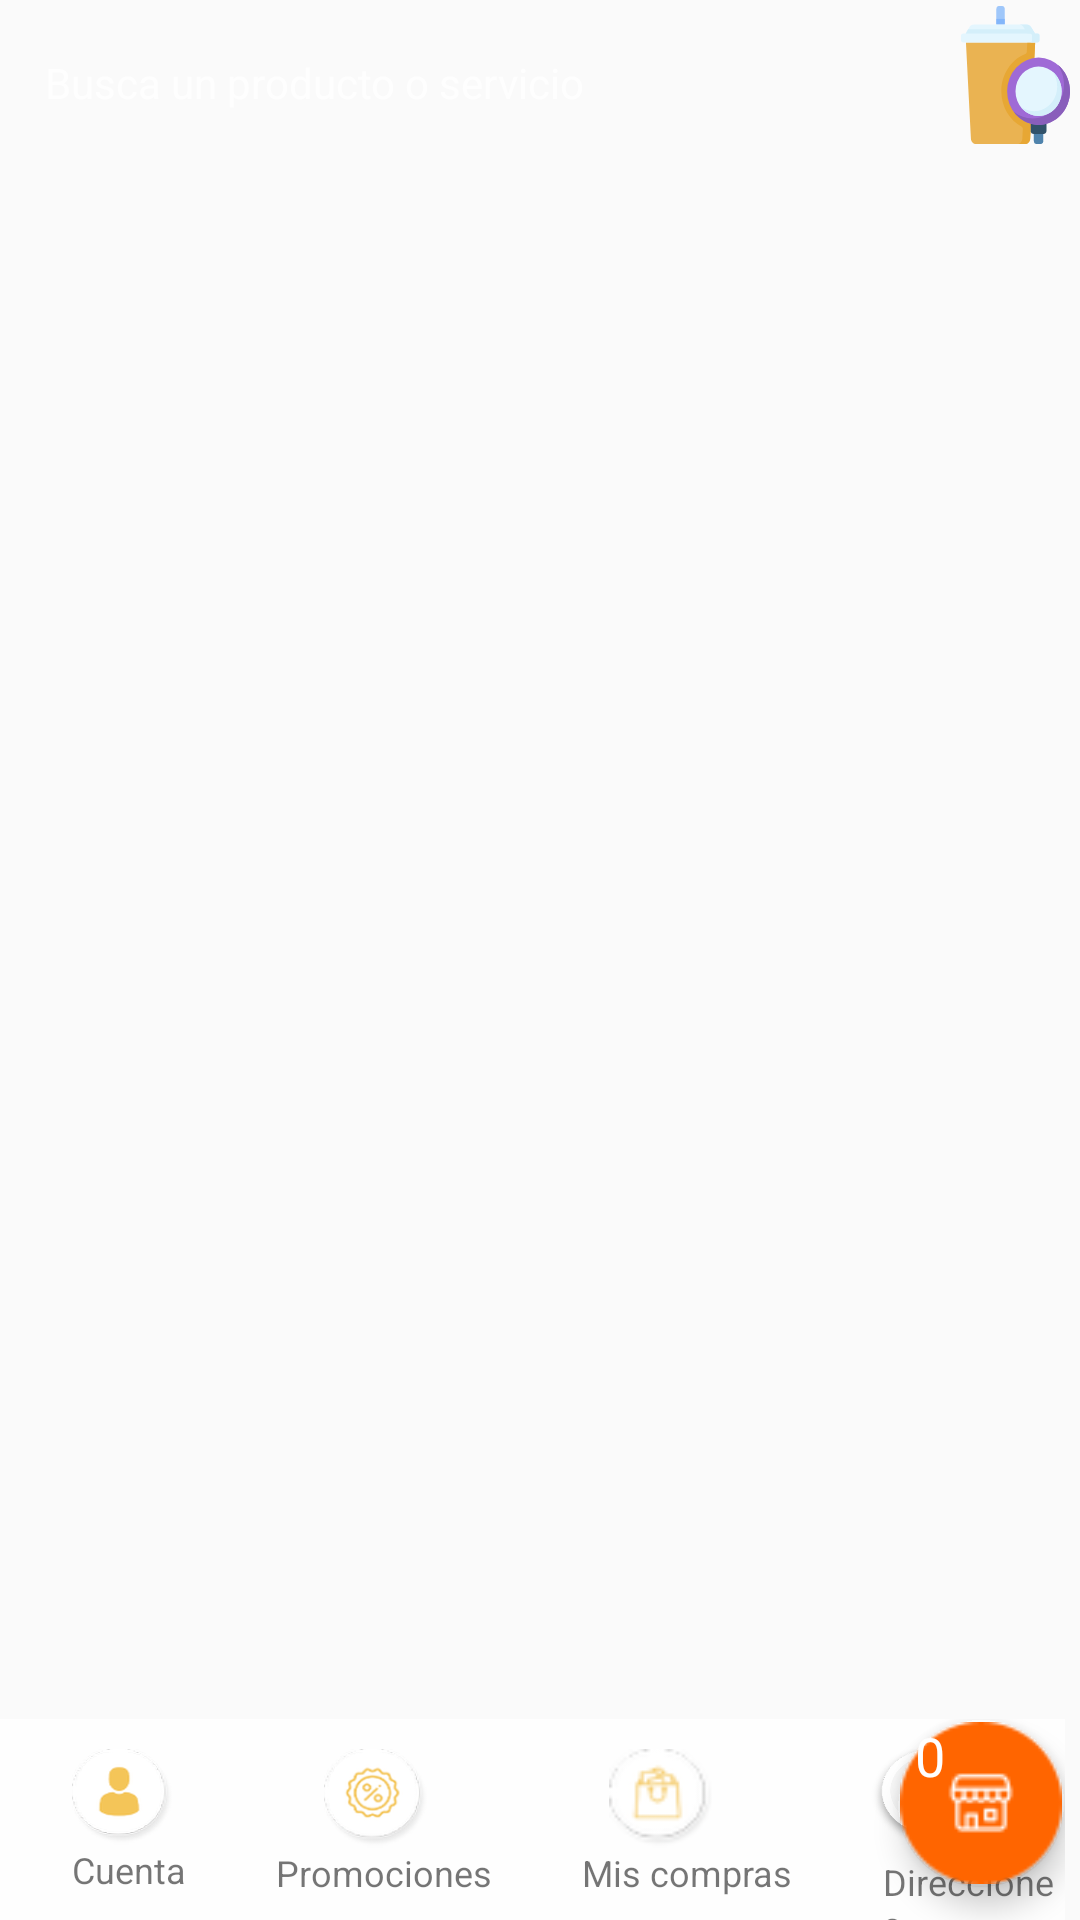

Icon bounding boxes for this 1080px×1920px phone screenshot, format (x1=x1, y1=y1, x2=x2, y2=y2):
basket: (x1=609, y1=1749, x2=705, y2=1837)
buscarlupa: (x1=966, y1=6, x2=1070, y2=144)
